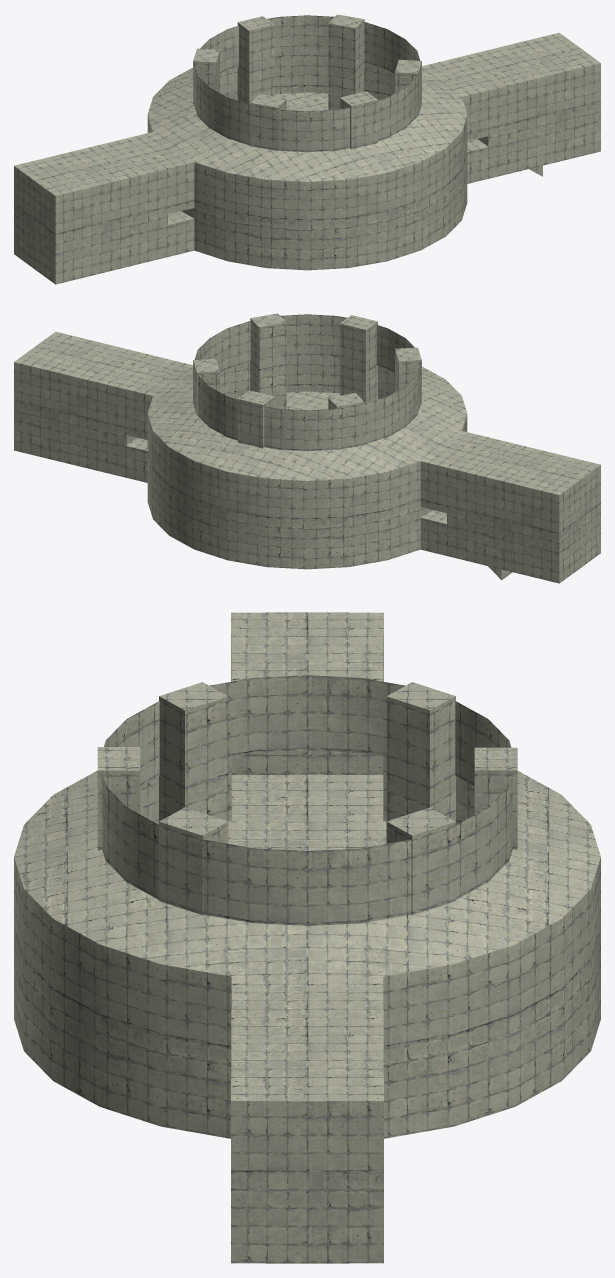
File: SM_TheSamePlace_04_Block_00.fbx
3 renders of one model, top to bottom at view 1: azimuth 30°, elevation 25°; view 2: azimuth 150°, elevation 25°; view 3: azimuth 270°, elevation 25°, orthographic. The views are drawn at different scales.
Visible parts, largest first — view 1: SM_TheSamePlace_04_Block_00; view 2: SM_TheSamePlace_04_Block_00; view 3: SM_TheSamePlace_04_Block_00.
Part boxes in pixels (x1=…): SM_TheSamePlace_04_Block_00: x1=14, y1=14, x2=600, y2=284; SM_TheSamePlace_04_Block_00: x1=14, y1=313, x2=600, y2=583; SM_TheSamePlace_04_Block_00: x1=14, y1=612, x2=600, y2=1263.
Size of the model in its own units: 7758 by 2079 by 3938.
